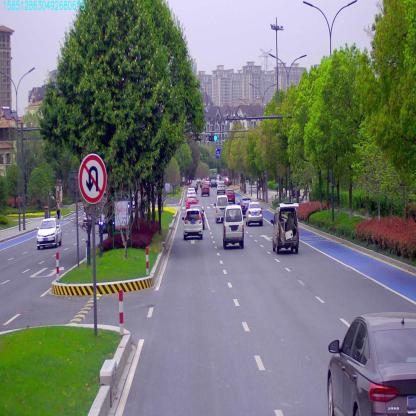traffic-light: (208, 133, 217, 139)
